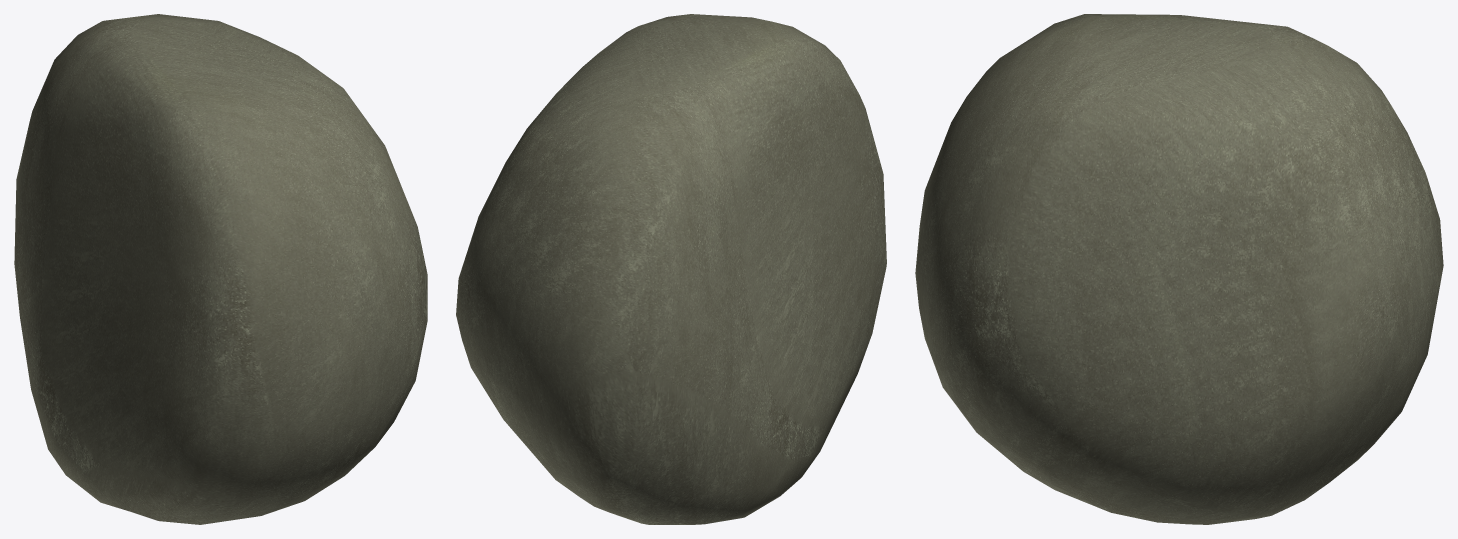
The model's file is _ocks2.fbx.
The picture shows the model from 3 angles, left to right: view 1: azimuth 30°, elevation 25°; view 2: azimuth 150°, elevation 25°; view 3: azimuth 270°, elevation 25°; orthographic projection. The views are drawn at different scales.
Visible parts, largest first — view 1: LowPoly2; view 2: LowPoly2; view 3: LowPoly2.
Boxes of the visible parts, x1=… form: LowPoly2: x1=14, y1=14, x2=427, y2=524; LowPoly2: x1=456, y1=14, x2=886, y2=524; LowPoly2: x1=915, y1=14, x2=1443, y2=524.
Size of the model in its own units: 105 by 152 by 157.
